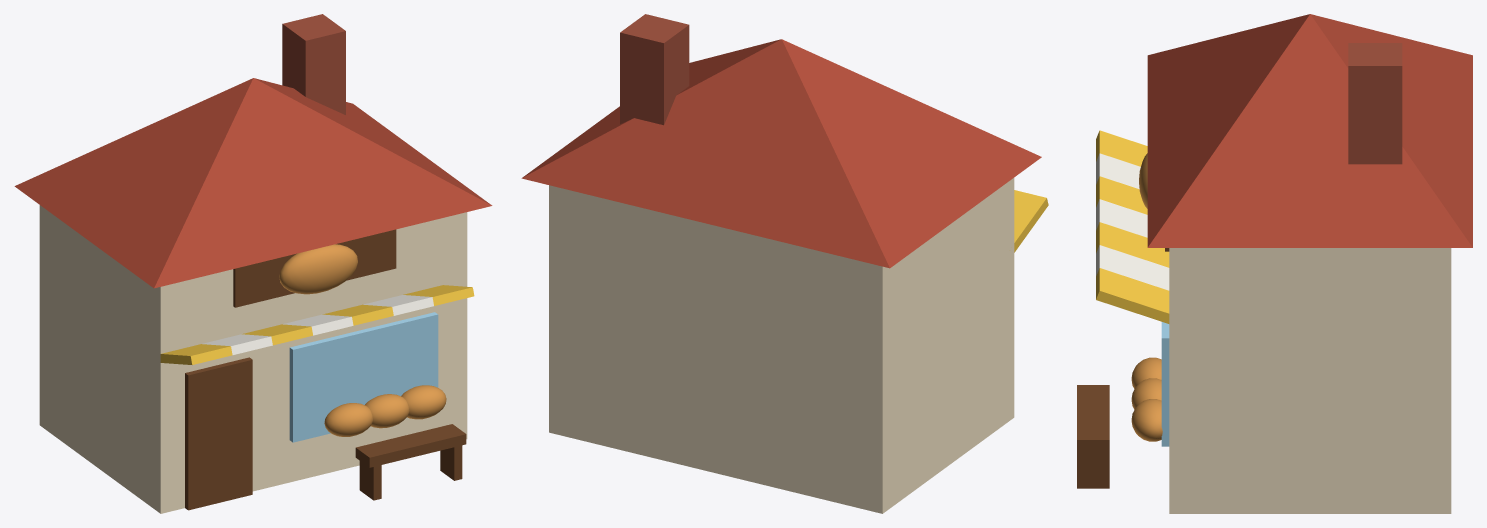
Rendered from Bakery_L11.fbx.
3 renders of one model, left to right at view 1: azimuth 30°, elevation 25°; view 2: azimuth 150°, elevation 25°; view 3: azimuth 270°, elevation 25°, orthographic. The views are drawn at different scales.
Visible parts, largest first — view 1: B11_Walls, B11_Roof, B11_Window, B11_Door, B11_Chimney, B11_SignBoard, B11_Display (×3), B11_SignBread, B11_Bench, B11_BenchLeg (×2), B11_Awning_1, B11_Awning_2 (+5 smaller); view 2: B11_Walls, B11_Roof, B11_Chimney, B11_Awning_1; view 3: B11_Walls, B11_Roof, B11_Chimney, B11_Awning_7, B11_Display (×3), B11_Bench, B11_Awning_6, B11_Awning_5, B11_BenchLeg, B11_Awning_4, B11_Awning_1, B11_Awning_3 (+2 smaller).
Boxes of the visible parts, x1,y1,x2,y2 form: B11_Walls: (39,205,467,513); B11_Roof: (14,78,492,288); B11_Window: (289,312,438,442); B11_Door: (185,357,252,510); B11_Chimney: (282,14,345,114); B11_SignBoard: (233,229,396,307); B11_Display (×3): (324,385,446,436); B11_SignBread: (279,244,357,294); B11_Bench: (355,424,466,467); B11_BenchLeg (×2): (359,445,462,500); B11_Awning_1: (160,344,232,364); B11_Awning_2: (202,334,272,354); B11_Walls: (549,178,1014,513); B11_Roof: (521,39,1041,268); B11_Chimney: (620,14,689,125); B11_Awning_1: (1014,190,1048,252); B11_Walls: (1169,248,1451,513); B11_Roof: (1147,14,1472,247); B11_Chimney: (1348,43,1402,164); B11_Awning_7: (1096,268,1169,323); B11_Display (×3): (1131,357,1162,441); B11_Bench: (1077,385,1109,451); B11_Awning_6: (1096,245,1169,290); B11_Awning_5: (1096,222,1169,267); B11_BenchLeg: (1077,451,1109,488); B11_Awning_4: (1096,199,1147,237); B11_Awning_1: (1096,130,1147,166); B11_Awning_3: (1096,176,1147,214).
Size of the model in its own units: 42 by 43 by 36.5.
